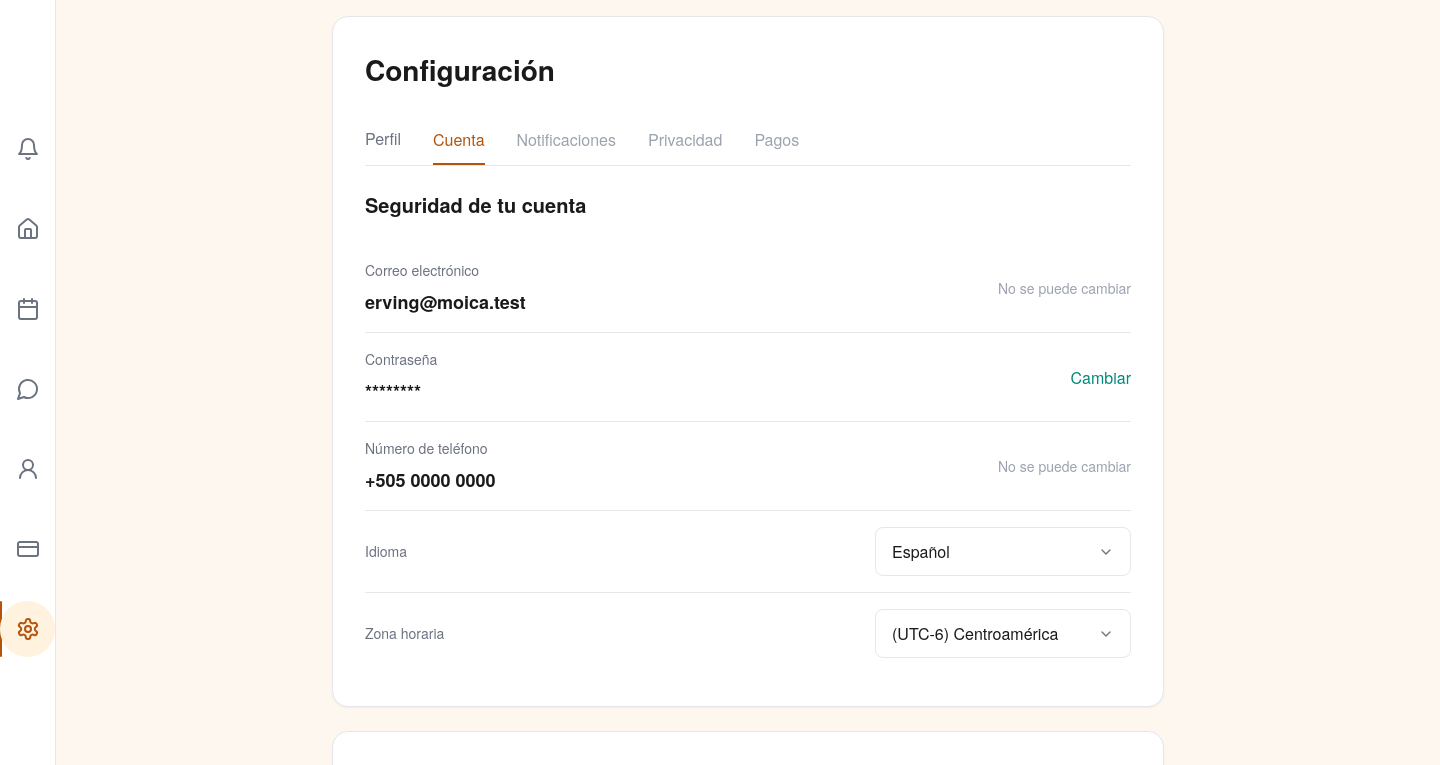
Scenario: seguridad de la cuenta › cambio de contraseña › cambia la contraseña y devuelve al inicio de sesión porque ya no hay sesión vigente
This screenshot has width=1440, height=765.
Expected: the heading "Seguridad de tu cuenta" is shown, [365, 190, 586, 219]
Click the button "Cambiar" at (1101, 377), box [1070, 366, 1131, 388]
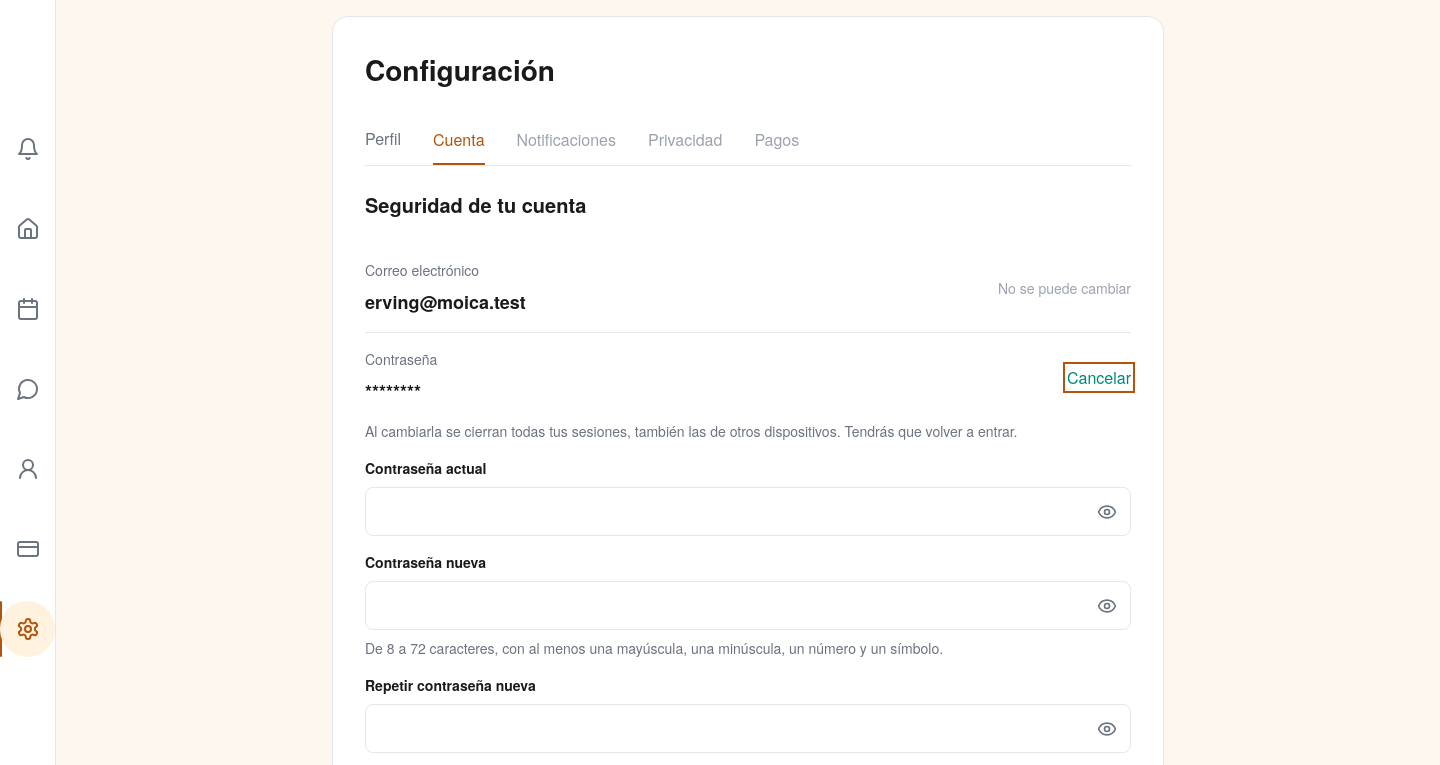
Type "Moica2026$segura" into the password field labelled "Contraseña actual" at (748, 512), box [365, 487, 1131, 536]
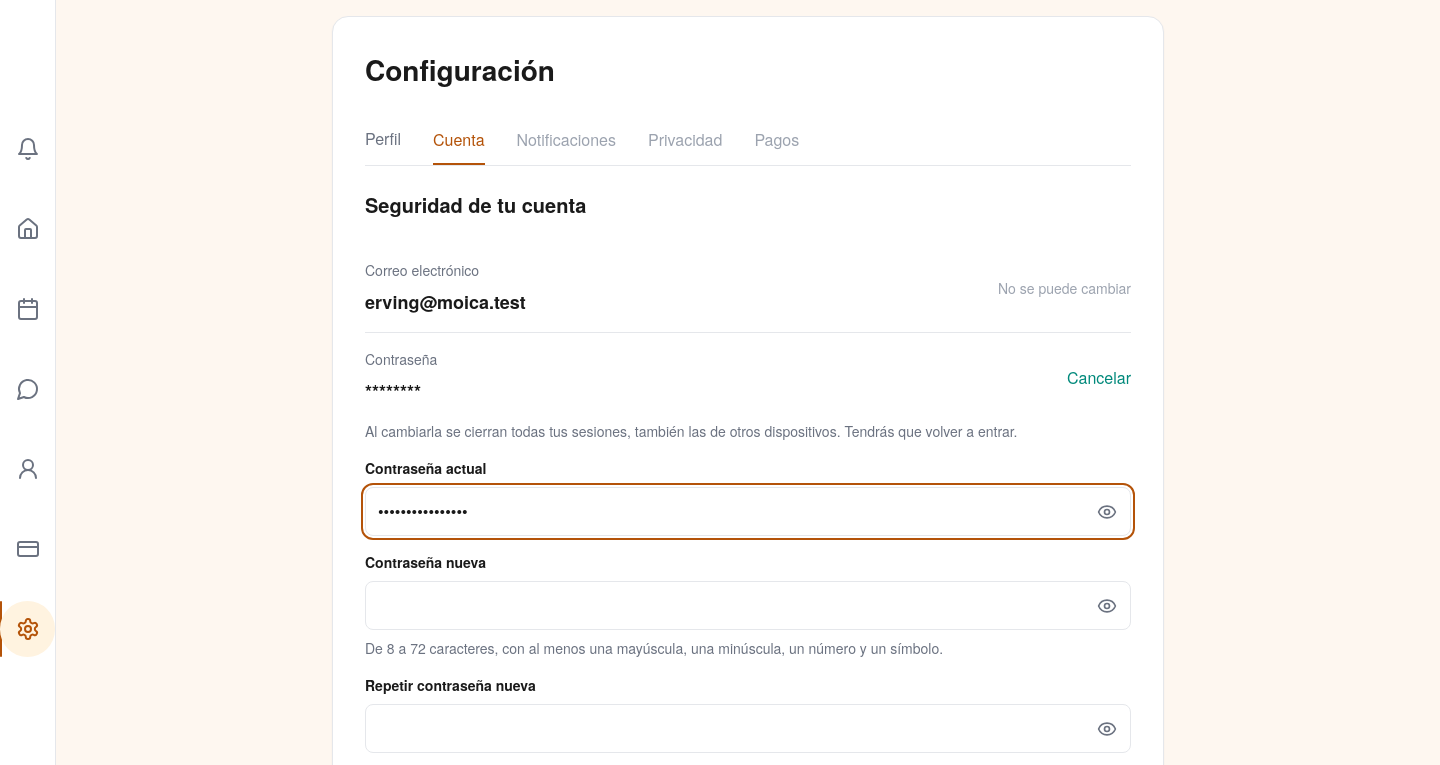
Type "Moica2026$nueva" into the password field labelled "Contraseña nueva" at (748, 606), box [365, 581, 1131, 630]
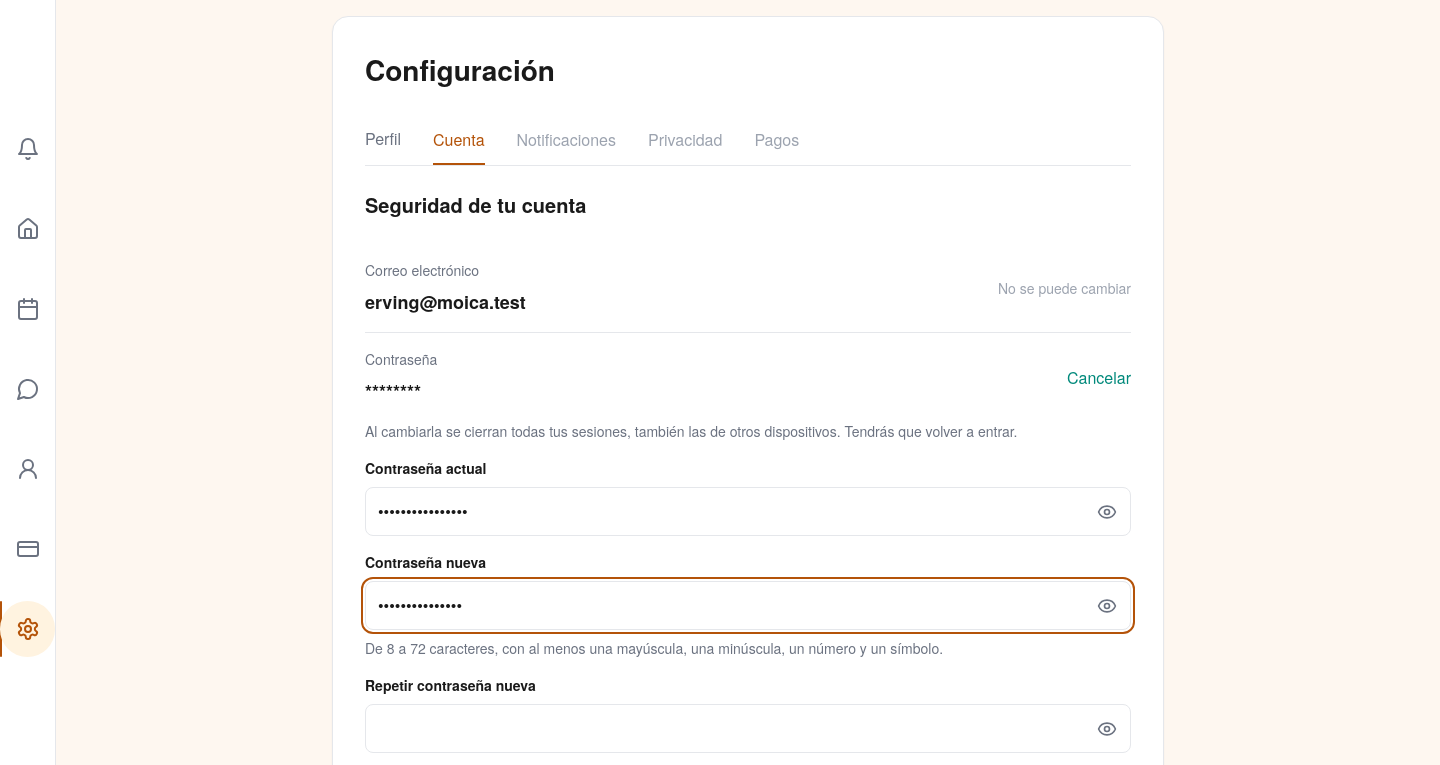
Type "Moica2026$nueva" into the password field labelled "Repetir contraseña nueva" at (748, 728), box [365, 704, 1131, 753]
(page scrolled)
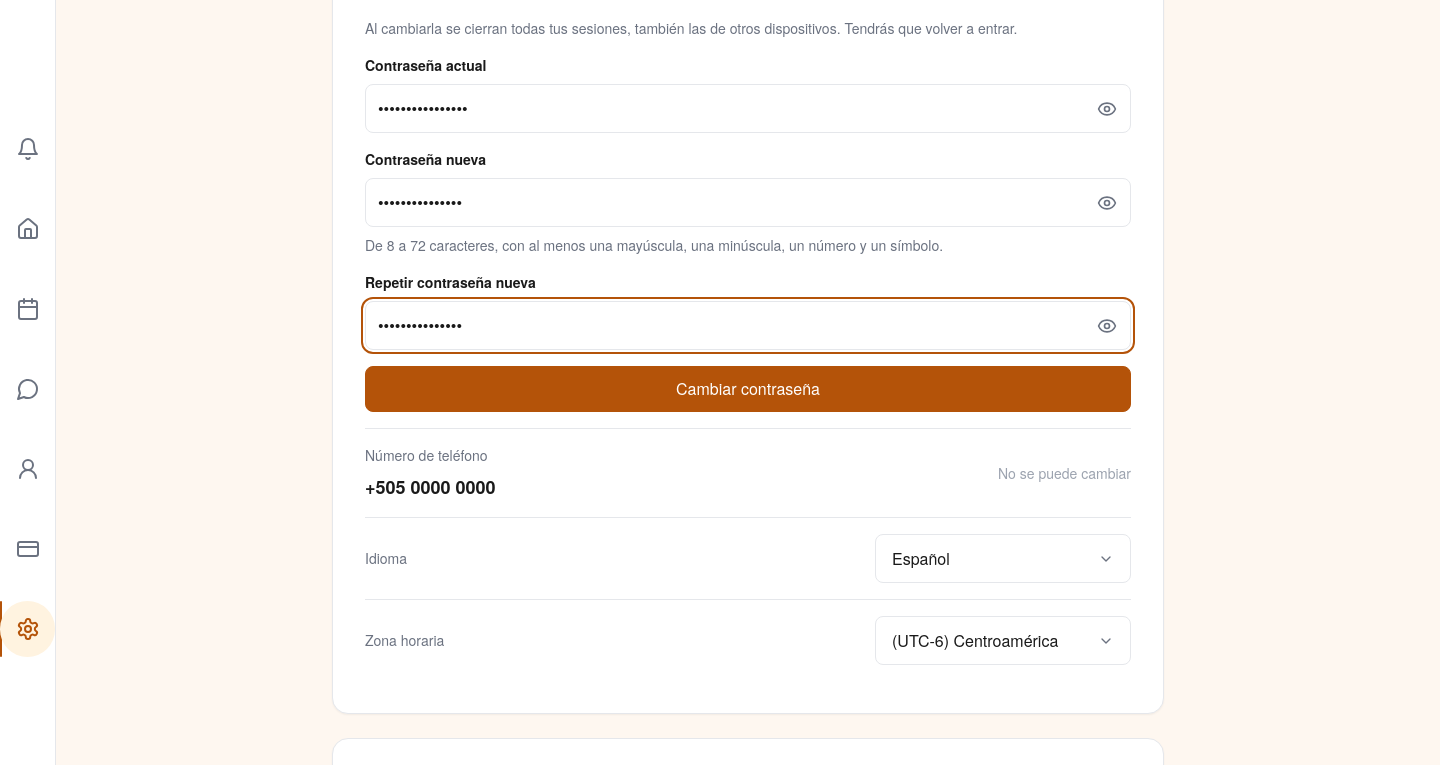
Click the button "Cambiar contraseña" at (748, 389), box [365, 366, 1131, 412]
(page scrolled)
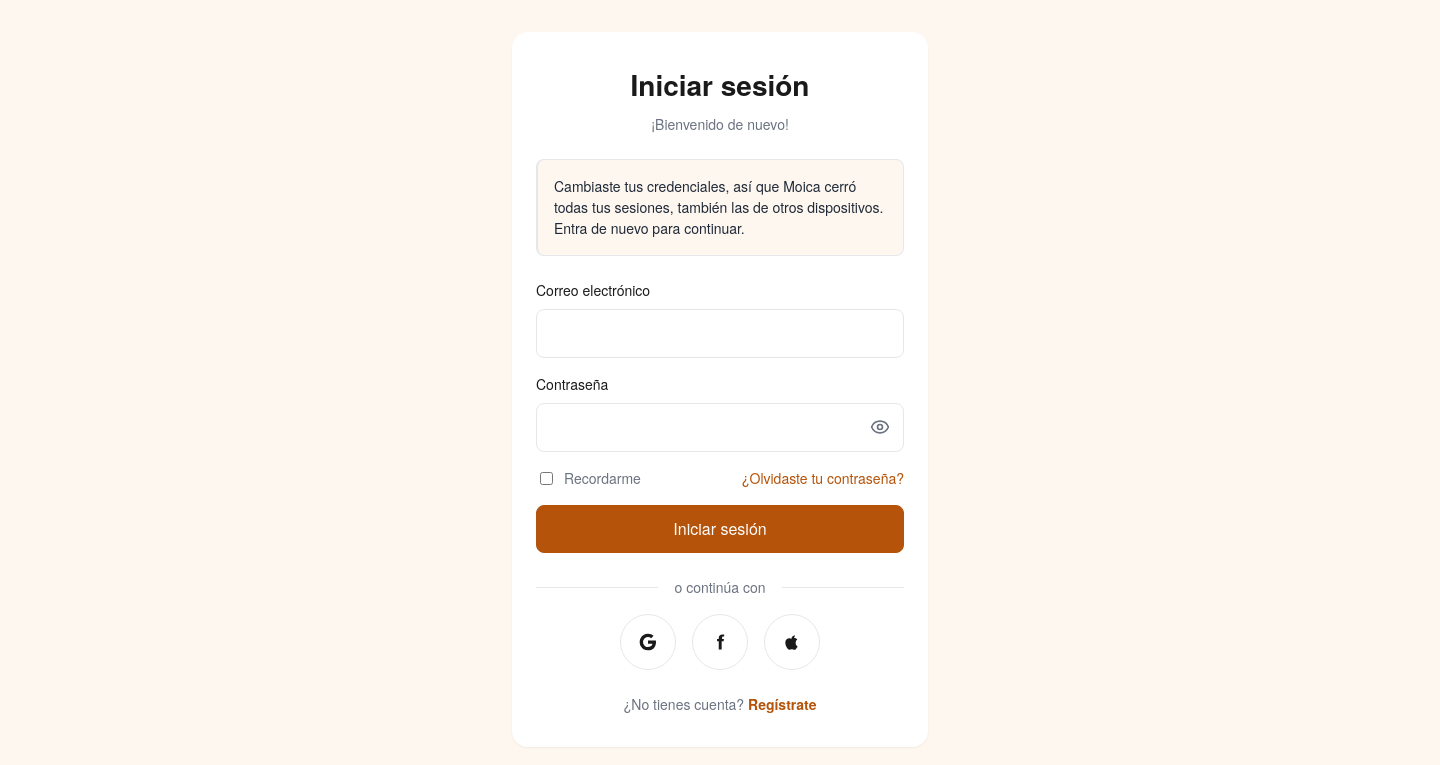
Result: the heading "Iniciar sesión" is shown at [630, 64, 810, 104]
Result: the message shows "Cambiaste tus credenciales" at [554, 176, 883, 238]
